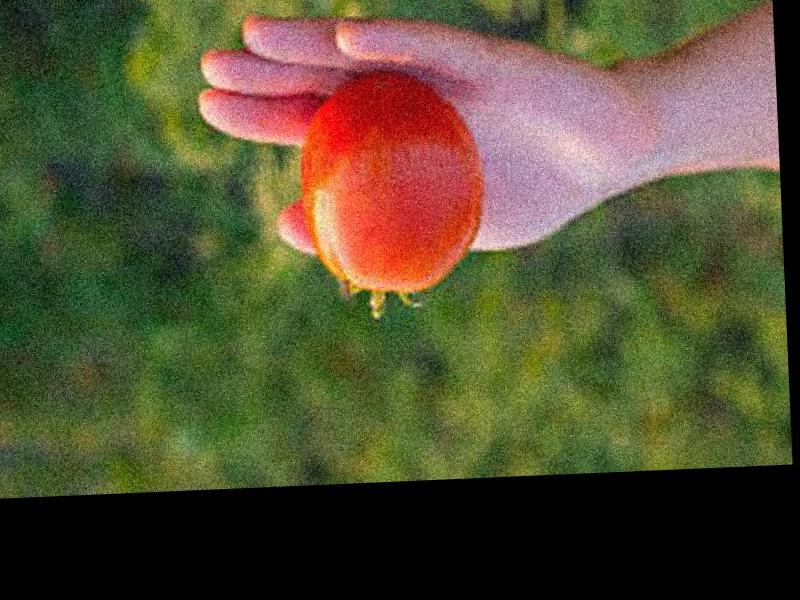Tomato: (299, 64, 485, 294)
